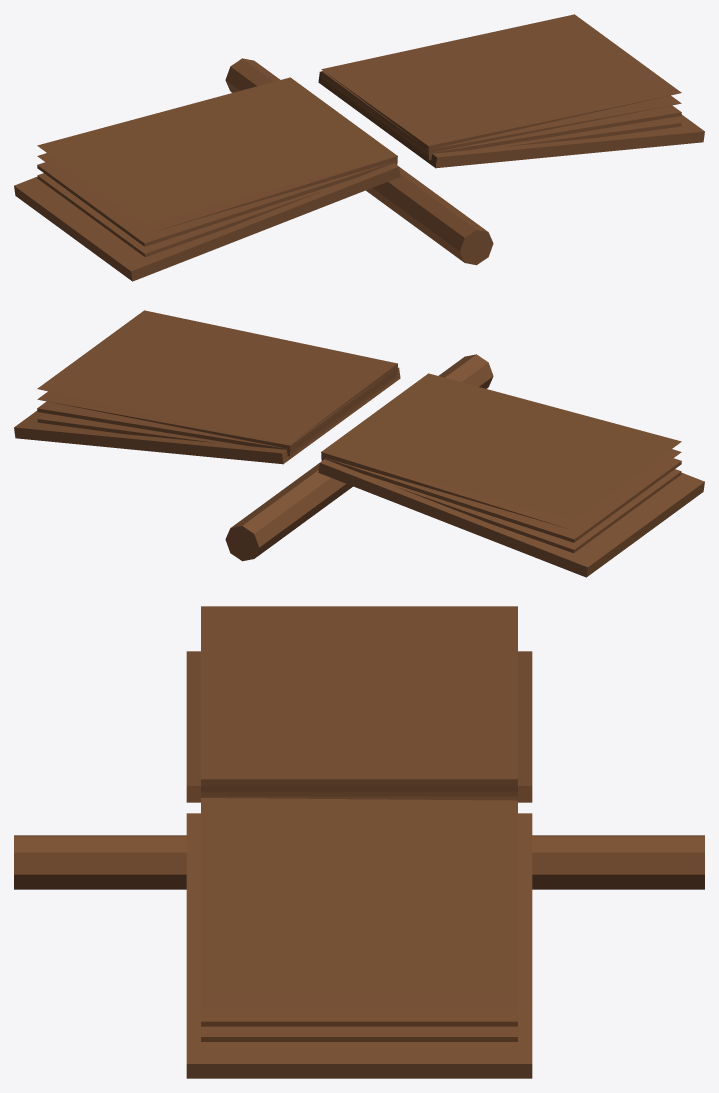
The model's file is open_book.glb.
3 views of the same model, one above another, from view 1: azimuth 30°, elevation 25°; view 2: azimuth 150°, elevation 25°; view 3: azimuth 270°, elevation 25° (orthographic). The views are drawn at different scales.
Visible parts, largest first — view 1: open_book; view 2: open_book; view 3: open_book.
Boxes of the visible parts, bbox=[...] form: open_book: bbox=[14, 14, 704, 281]; open_book: bbox=[14, 310, 704, 577]; open_book: bbox=[14, 606, 704, 1078].
Size of the model in its own units: 0.1696 by 0.0195 by 0.12.
